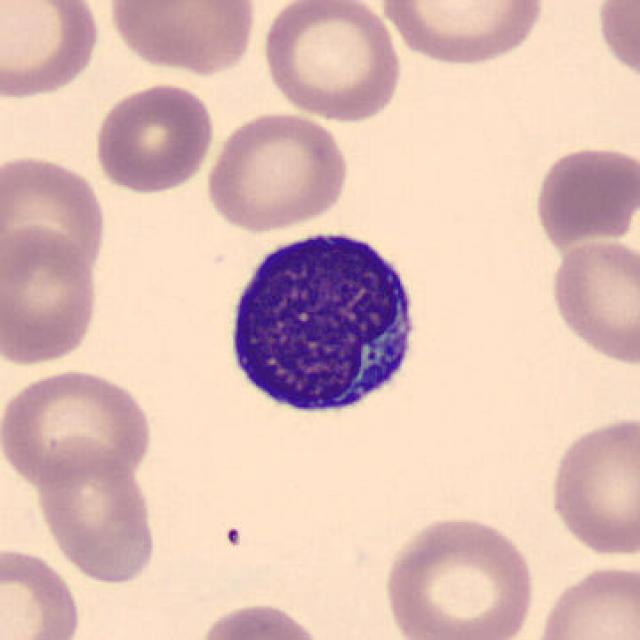Lymphocyte: (215, 217, 430, 430)
RBC: (378, 511, 538, 640), (0, 365, 156, 490), (201, 108, 352, 235), (32, 444, 162, 589), (257, 0, 405, 123), (0, 222, 103, 369), (91, 79, 217, 196), (0, 150, 110, 284), (544, 410, 638, 560), (530, 139, 638, 254), (546, 234, 638, 368), (105, 0, 259, 78), (377, 0, 549, 69), (0, 0, 103, 104), (528, 559, 638, 640), (0, 543, 85, 640), (192, 599, 327, 640), (592, 0, 638, 90)
